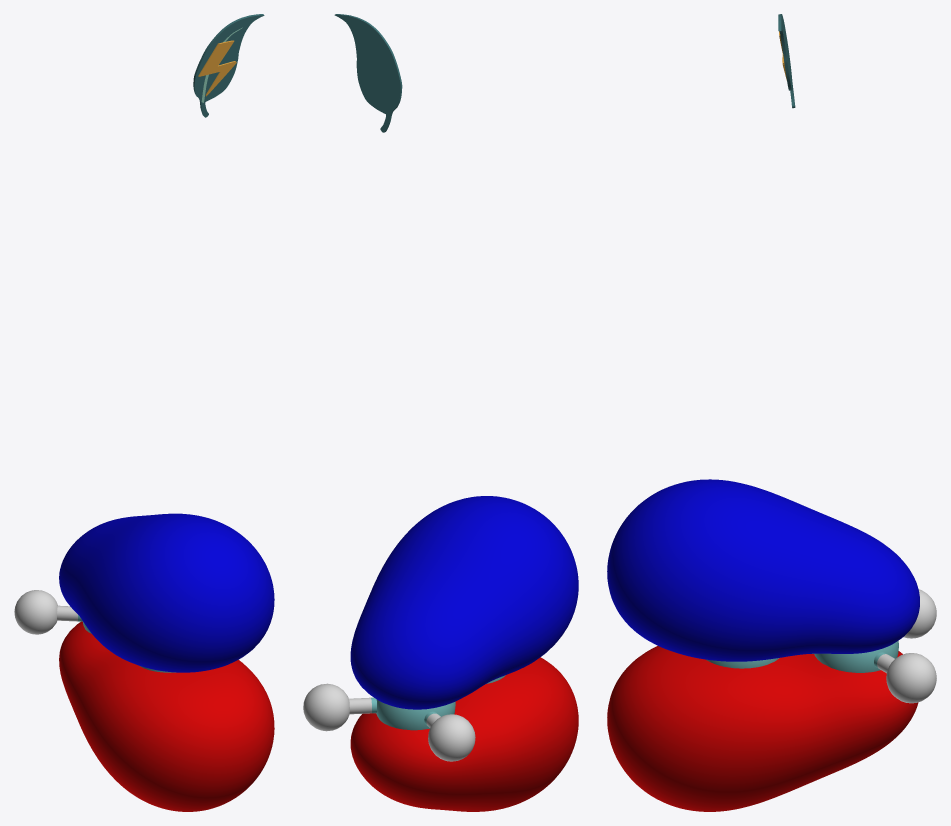
The model's file is c2h4_dob_en.glb.
3 views of the same model, side by side, from view 1: azimuth 30°, elevation 25°; view 2: azimuth 150°, elevation 25°; view 3: azimuth 270°, elevation 25° (orthographic). The views are drawn at different scales.
Visible parts, largest first — view 1: c2h4_dob_en, path182, path186; view 2: c2h4_dob_en, path182; view 3: c2h4_dob_en.
Boxes of the visible parts, x1=… form: c2h4_dob_en: x1=14, y1=513, x2=274, y2=811; path182: x1=193, y1=14, x2=264, y2=117; path186: x1=198, y1=40, x2=236, y2=96; c2h4_dob_en: x1=303, y1=496, x2=578, y2=811; path182: x1=334, y1=14, x2=402, y2=132; c2h4_dob_en: x1=607, y1=479, x2=936, y2=811.
Size of the model in its own units: 1.69 by 6.33 by 2.27.
